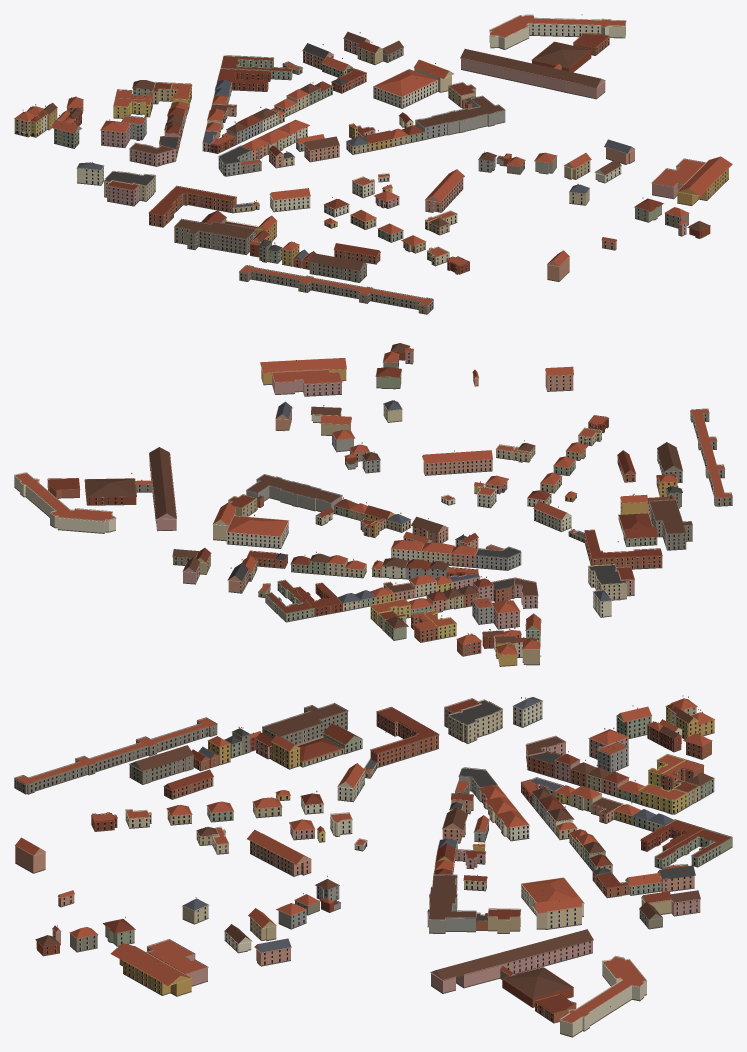
File: Budynki_2_0.fbx
The picture shows the model from 3 angles, top to bottom: view 1: azimuth 30°, elevation 25°; view 2: azimuth 150°, elevation 25°; view 3: azimuth 270°, elevation 25°; orthographic projection. The views are drawn at different scales.
Visible parts, largest first — view 1: Bud_87883314, Bud_87807741, Bud_87883320, Bud_87857209, Bud_287077808, Bud_1120351685, Bud_1160912573, Bud_1169705946, Bud_87857176, Bud_87883297, Bud_87825452, Bud_287064111 (+21 smaller); view 2: Bud_87883320, Bud_287077808, Bud_87883314, Bud_1160912573, Bud_87825452, Bud_87807741, Bud_87857209, Bud_1120351685, Bud_211150460, Bud_87883297, Bud_1169705946, Bud_287064111 (+22 smaller); view 3: Bud_87883314, Bud_87807741, Bud_87883320, Bud_1120351685, Bud_1169705946, Bud_287077808, Bud_87857209, Bud_87883297, Bud_287064111, Bud_374468684, Bud_87857176, Bud_211150460 (+36 smaller).
Part boxes in pixels (x1,y1,x2,y2): Bud_87883314: [460, 49, 605, 99]; Bud_87807741: [239, 265, 433, 314]; Bud_87883320: [489, 14, 626, 49]; Bud_87857209: [174, 218, 256, 254]; Bud_287077808: [415, 95, 505, 139]; Bud_1120351685: [148, 185, 236, 227]; Bud_1160912573: [373, 69, 437, 108]; Bud_1169705946: [677, 156, 732, 205]; Bud_87857176: [309, 253, 367, 282]; Bud_87883297: [531, 41, 591, 72]; Bud_87825452: [651, 158, 705, 199]; Bud_287064111: [220, 55, 292, 80]; Bud_87883320: [14, 472, 116, 533]; Bud_287077808: [246, 474, 342, 514]; Bud_87883314: [131, 447, 176, 531]; Bud_1160912573: [226, 514, 289, 548]; Bud_87825452: [272, 368, 342, 396]; Bud_87807741: [690, 408, 732, 506]; Bud_87857209: [649, 499, 692, 550]; Bud_1120351685: [584, 529, 662, 569]; Bud_211150460: [422, 450, 492, 475]; Bud_87883297: [84, 478, 136, 505]; Bud_1169705946: [260, 358, 346, 385]; Bud_287064111: [265, 579, 314, 622]; Bud_87883314: [430, 929, 593, 993]; Bud_87807741: [14, 717, 217, 794]; Bud_87883320: [560, 955, 647, 1037]; Bud_1120351685: [370, 706, 439, 767]; Bud_1169705946: [110, 943, 192, 996]; Bud_287077808: [427, 874, 476, 933]; Bud_87857209: [262, 703, 348, 745]; Bud_87883297: [502, 967, 573, 1007]; Bud_287064111: [654, 828, 732, 869]; Bud_374468684: [448, 699, 502, 743]; Bud_87857176: [129, 745, 194, 784]; Bud_211150460: [247, 829, 311, 876].
Size of the model in its own units: 541 by 20.1 by 509.
